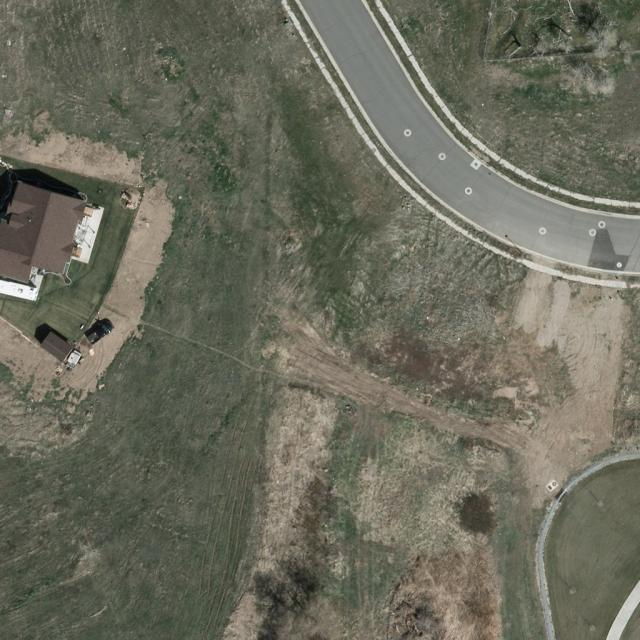vehicle: (87, 321, 115, 347)
